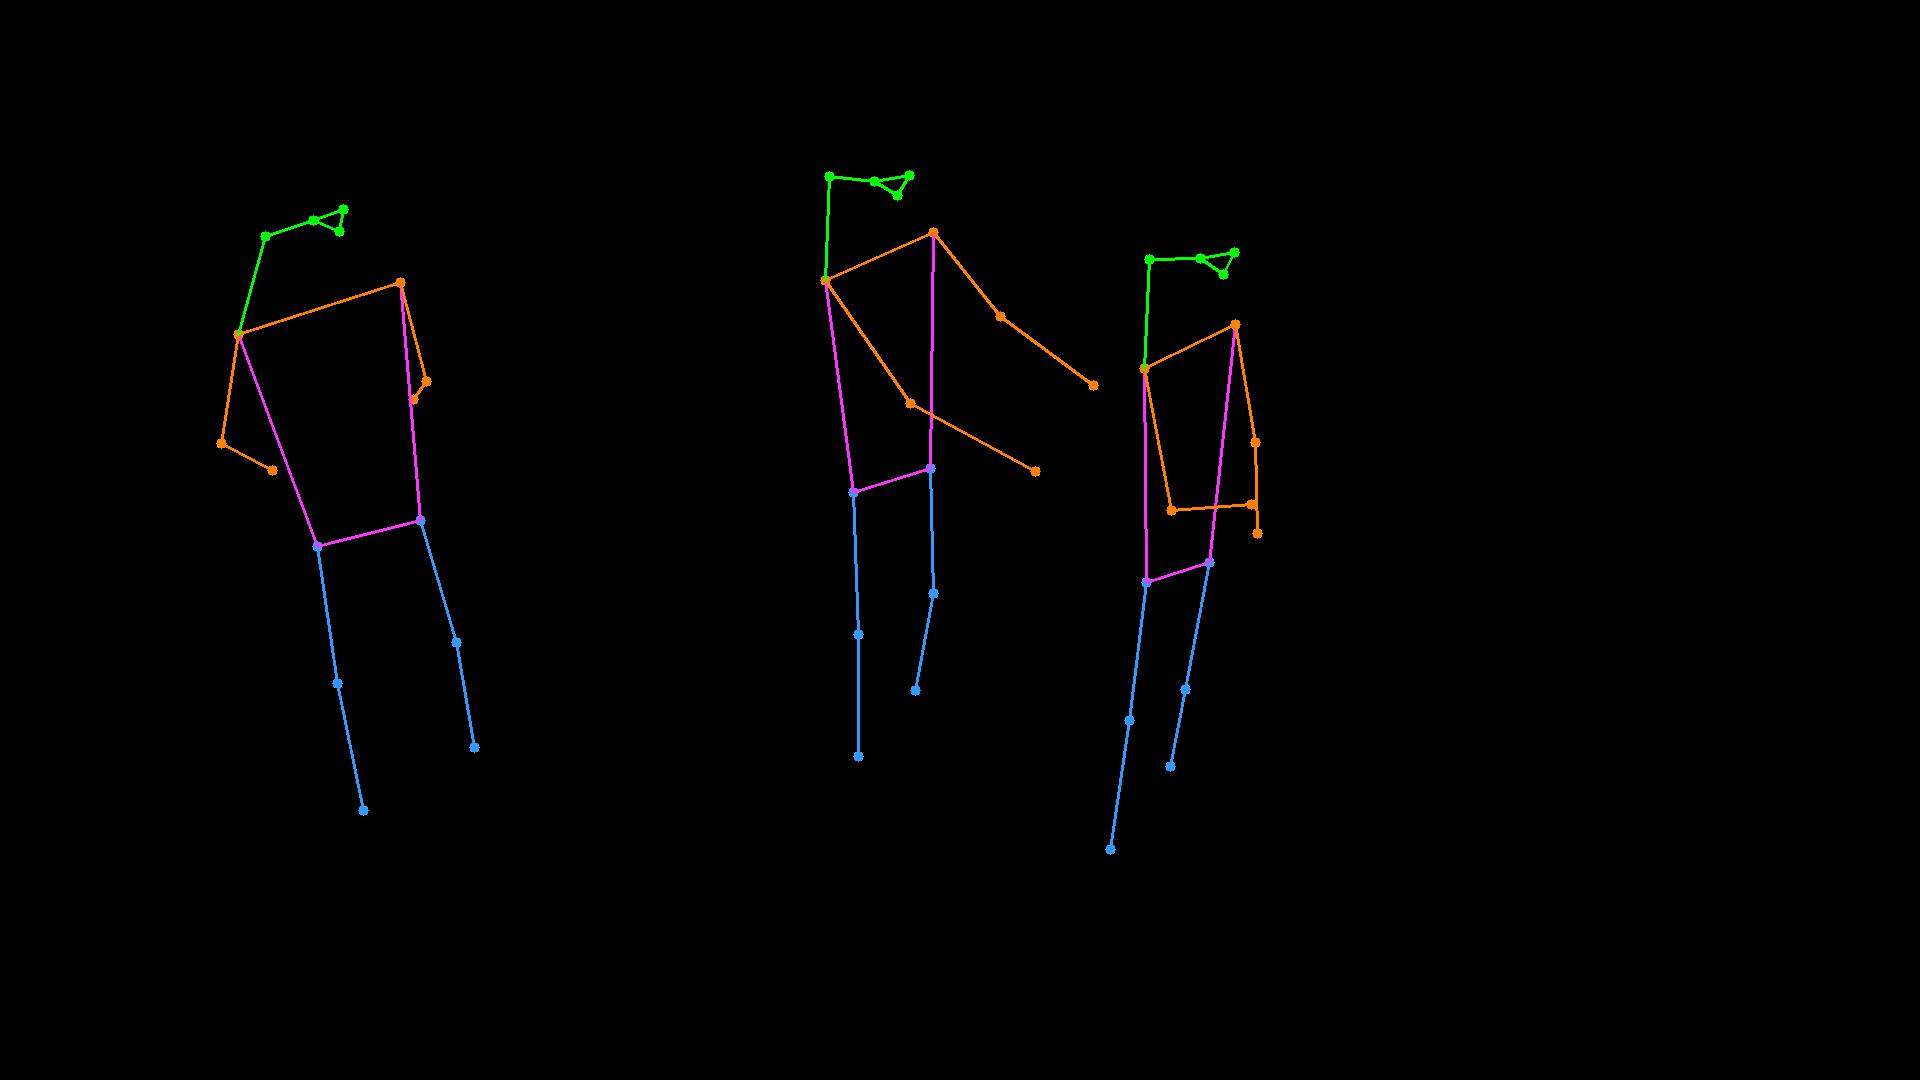normal: (745, 128, 1365, 906), (160, 149, 542, 849)
